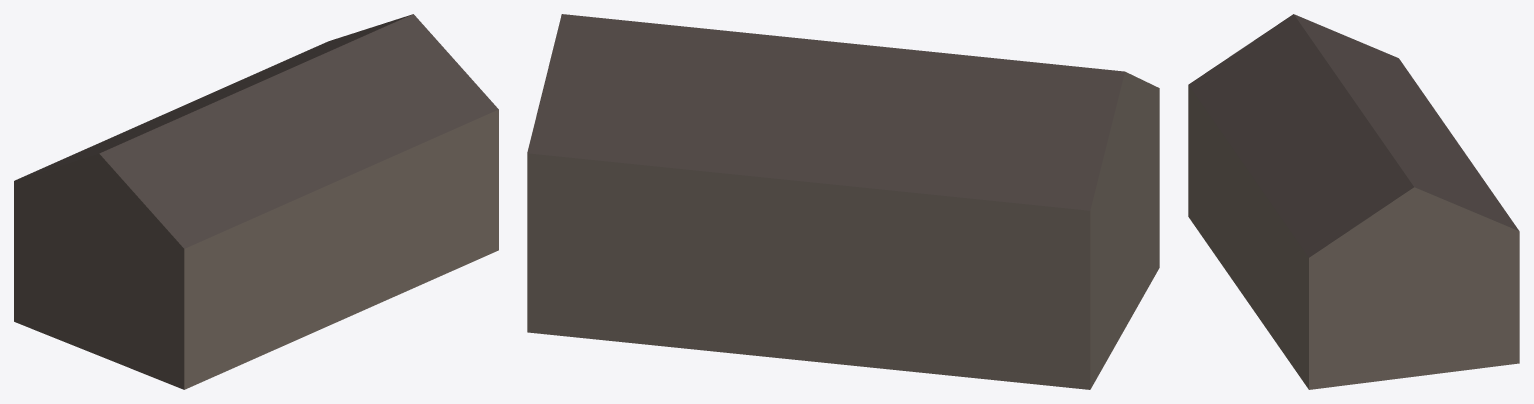
3 renders of one model, left to right at view 1: azimuth 30°, elevation 25°; view 2: azimuth 150°, elevation 25°; view 3: azimuth 270°, elevation 25°, orthographic. The views are drawn at different scales.
Parts seen in each view (by area): view 1: HP-w859457497; view 2: HP-w859457497; view 3: HP-w859457497.
Part boxes in pixels (x1=…): HP-w859457497: x1=14, y1=14, x2=498, y2=389; HP-w859457497: x1=527, y1=14, x2=1159, y2=389; HP-w859457497: x1=1188, y1=14, x2=1519, y2=389.
Bounding box in the file's own units: 19.45 × 8.61 × 13.64.
